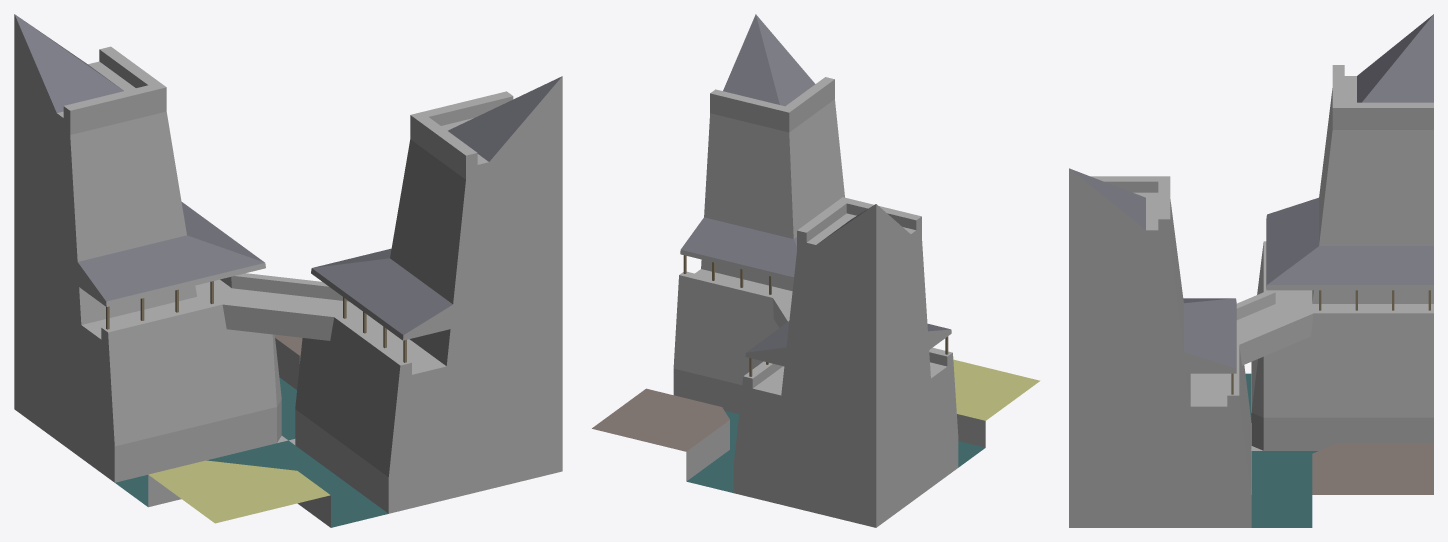
Rendered from crcw.obj.
The picture shows the model from 3 angles, left to right: view 1: azimuth 30°, elevation 25°; view 2: azimuth 150°, elevation 25°; view 3: azimuth 270°, elevation 25°; orthographic projection. The views are drawn at different scales.
Parts seen in each view (by area): view 1: crcw; view 2: crcw; view 3: crcw.
Part boxes in pixels (bbox=[...]): crcw: bbox=[14, 14, 562, 527]; crcw: bbox=[592, 14, 1040, 527]; crcw: bbox=[1069, 14, 1433, 527].
Bounding box in the file's own units: 30 × 32.63 × 30.
